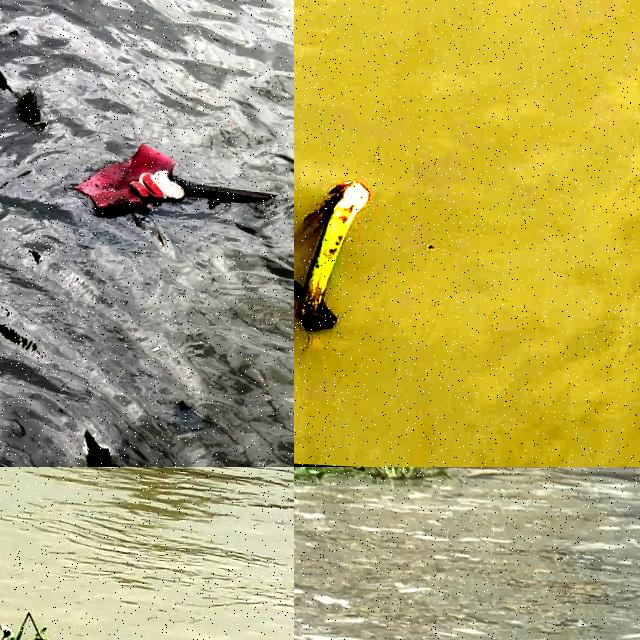water-hyacinth: (295, 468, 450, 520), (1, 606, 129, 640), (123, 468, 203, 486), (1, 468, 35, 489), (1, 468, 32, 482)
